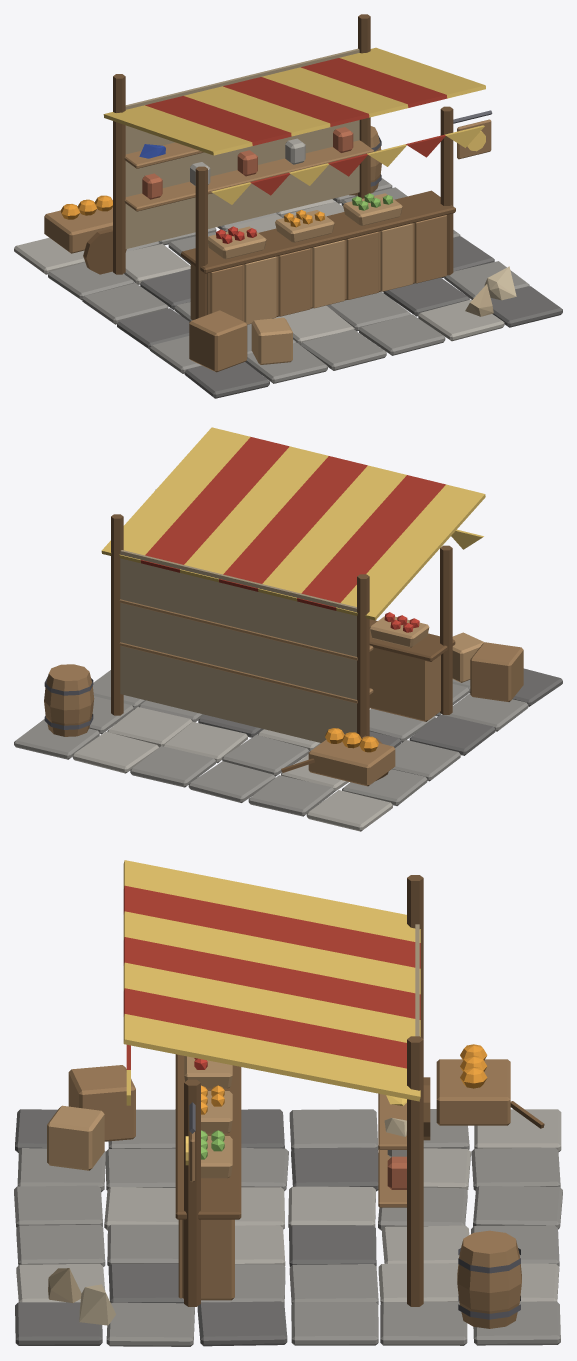
The model's file is market_2.glb.
3 renders of one model, top to bottom at view 1: azimuth 30°, elevation 25°; view 2: azimuth 150°, elevation 25°; view 3: azimuth 270°, elevation 25°, orthographic. The views are drawn at different scales.
Visible parts, largest first — view 1: Market; view 2: Market; view 3: Market.
Part boxes in pixels (x1,y1,x2,y2): Market: (14, 14, 562, 398); Market: (14, 427, 562, 831); Market: (14, 860, 562, 1346).
Bounding box in the file's own units: 5.16 × 2.94 × 5.17.
